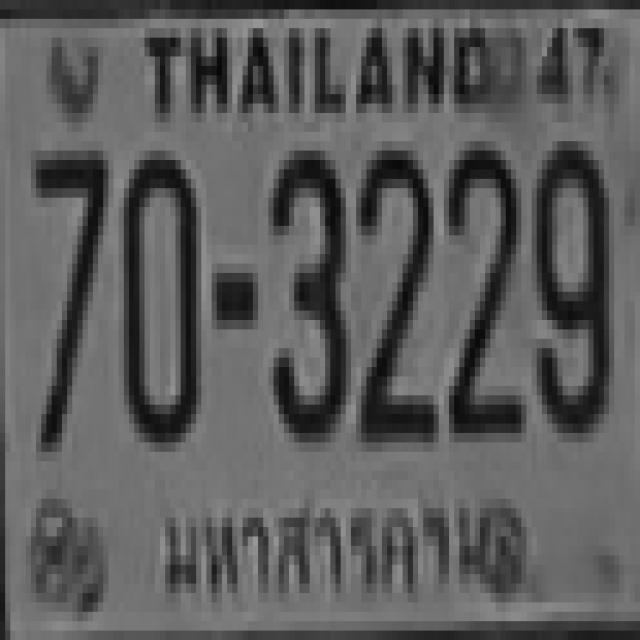0: (119, 146, 196, 438)
2: (356, 141, 429, 433), (444, 136, 516, 428)
3: (268, 141, 341, 433)
7: (31, 142, 103, 442)
9: (532, 132, 609, 424)
MahaSarakham: (160, 479, 497, 609)
